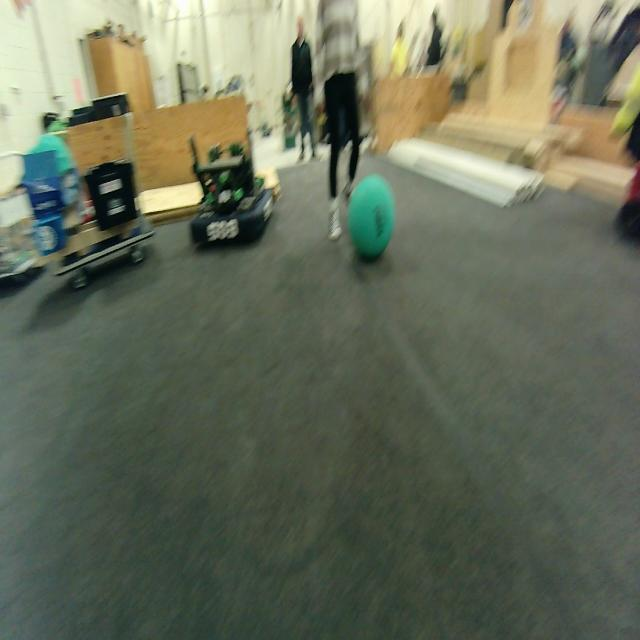algae: (346, 174, 396, 263)
